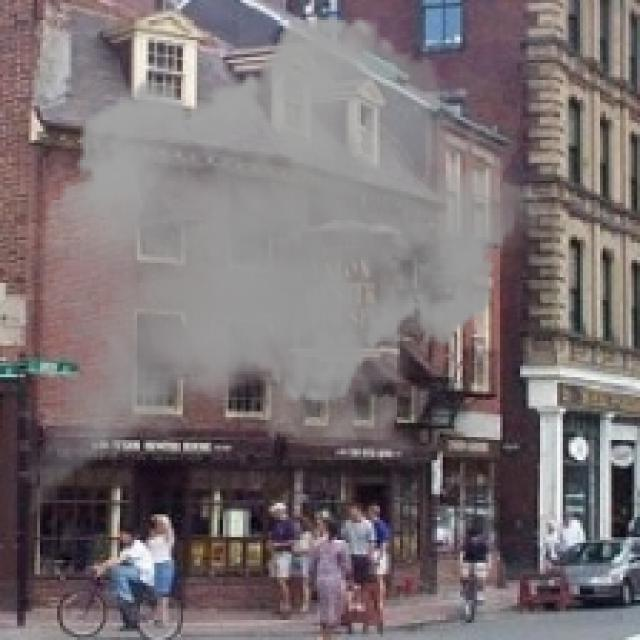smoke: (14, 0, 554, 543)
